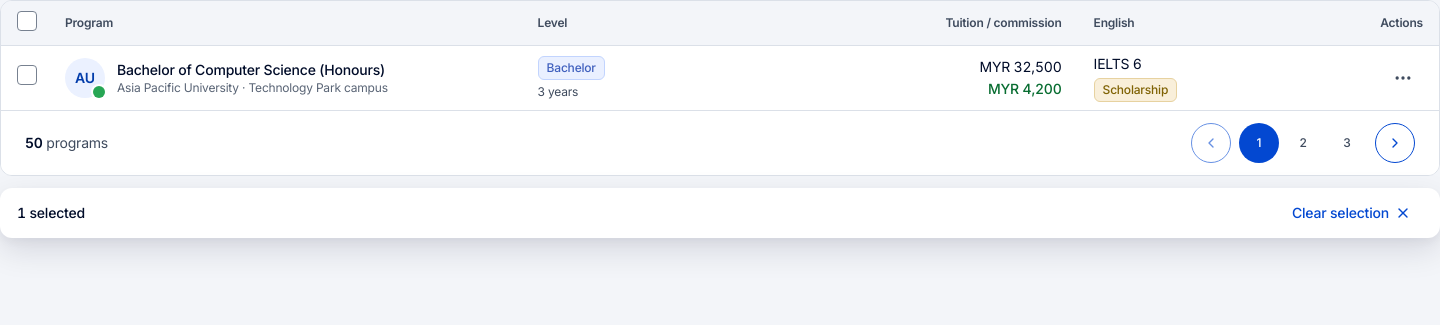
Test: preserves off-page selection and keeps business amounts and management actions
The width and height of the screenshot is (1440, 325).
Expected: the text titled "Commission" reads "MYR 4,200", [988, 80, 1062, 97]
Click the checkbox named "Select Bachelor of Computer Science (Honours)" at (27, 75), box [17, 65, 37, 85]
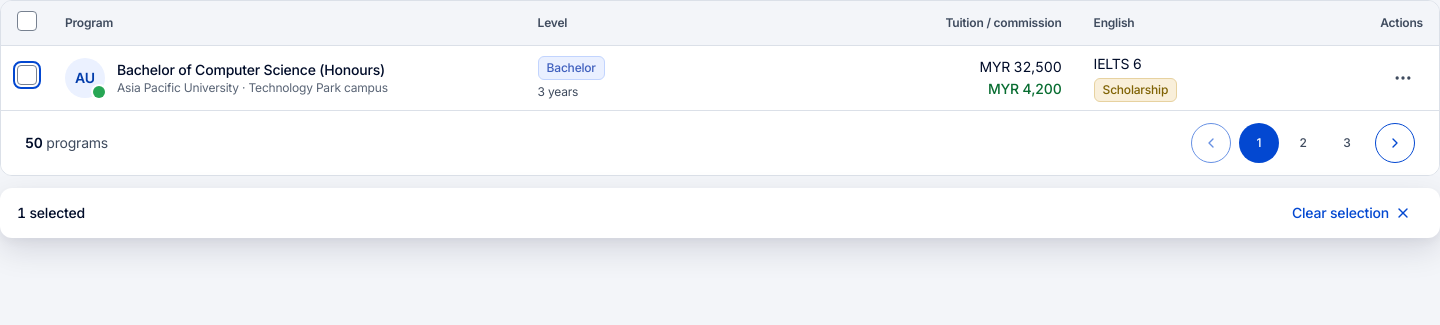
Several actions: they share one menu.
Click the button named "More actions for" at (1403, 78), box [1383, 58, 1423, 98]
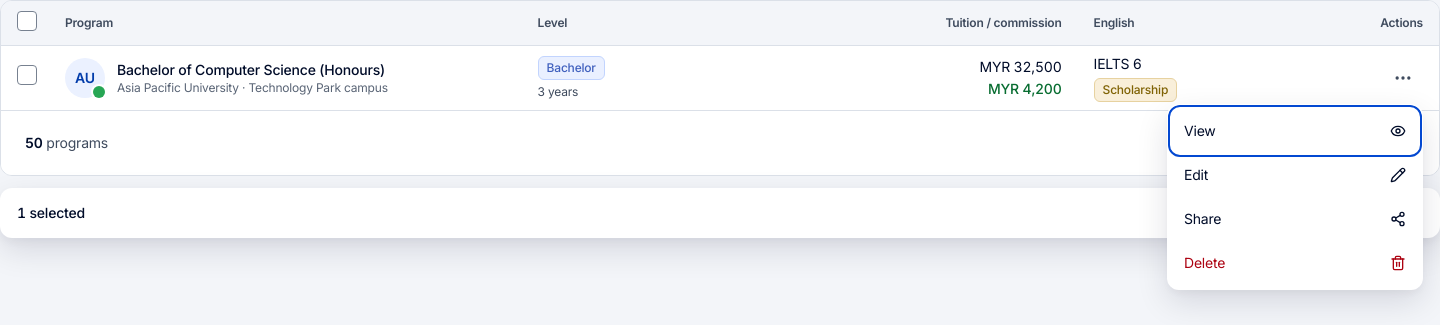
Result: the menu item "Edit" is shown at [1172, 153, 1418, 197]
